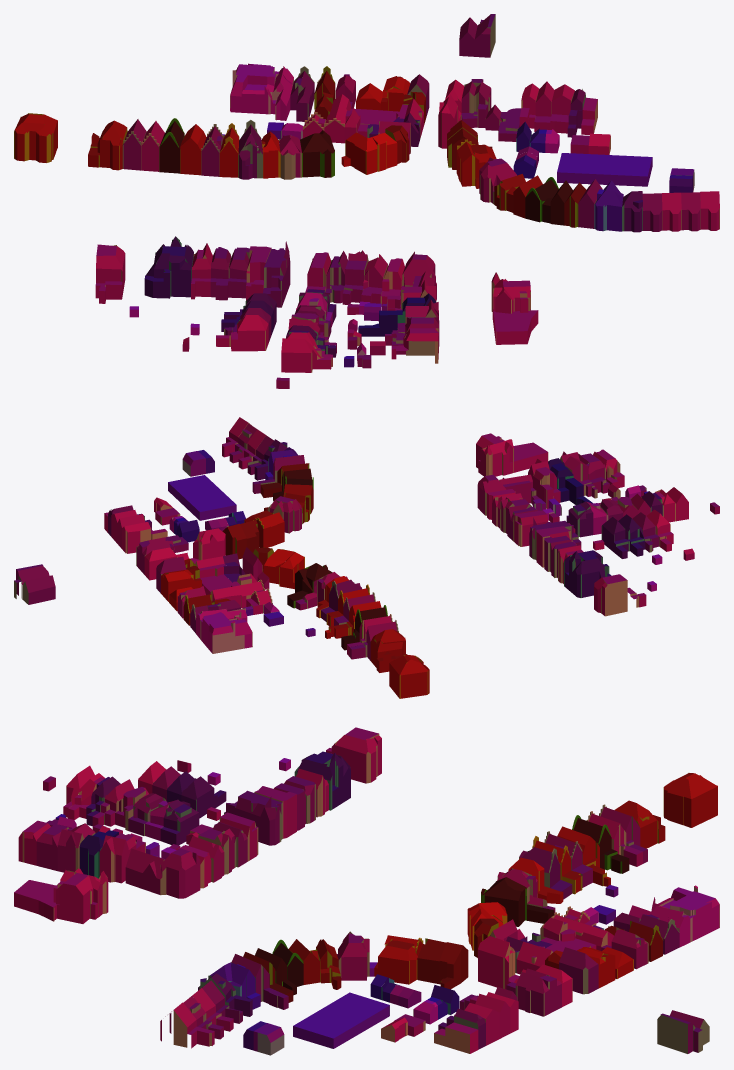
The model's file is buildings_8_11.glb.
The picture shows the model from 3 angles, top to bottom: view 1: azimuth 30°, elevation 25°; view 2: azimuth 150°, elevation 25°; view 3: azimuth 270°, elevation 25°; orthographic projection. The views are drawn at different scales.
Parts seen in each view (by area): view 1: buildings_8_11; view 2: buildings_8_11; view 3: buildings_8_11.
Part boxes in pixels (x1,y1,x2,y2): buildings_8_11: (14, 14, 719, 388); buildings_8_11: (14, 417, 719, 698); buildings_8_11: (14, 727, 719, 1055).
Size of the model in its own units: 209 by 16.37 by 211.
